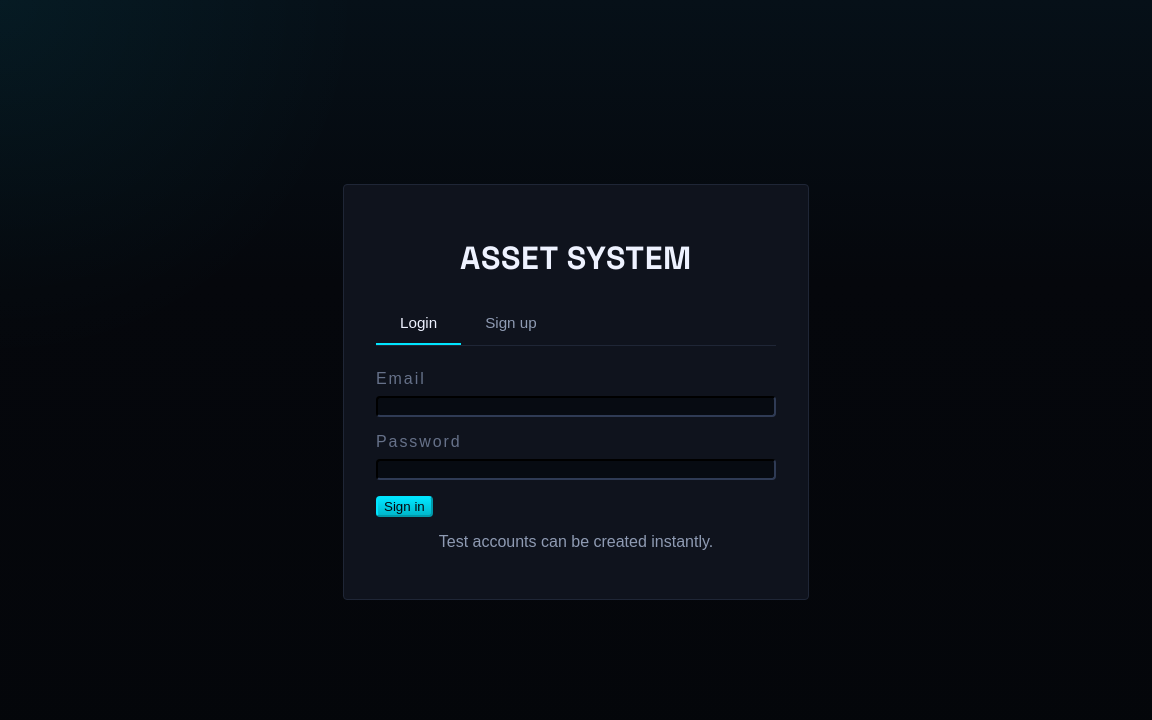
Test: App Integration › logs in and shows dashboard
Expected: the tab "Login" is shown, [376, 302, 461, 345]
Step 1. Type "demo@example.com" into the field labelled "Email" → (576, 407), box [376, 396, 776, 417]
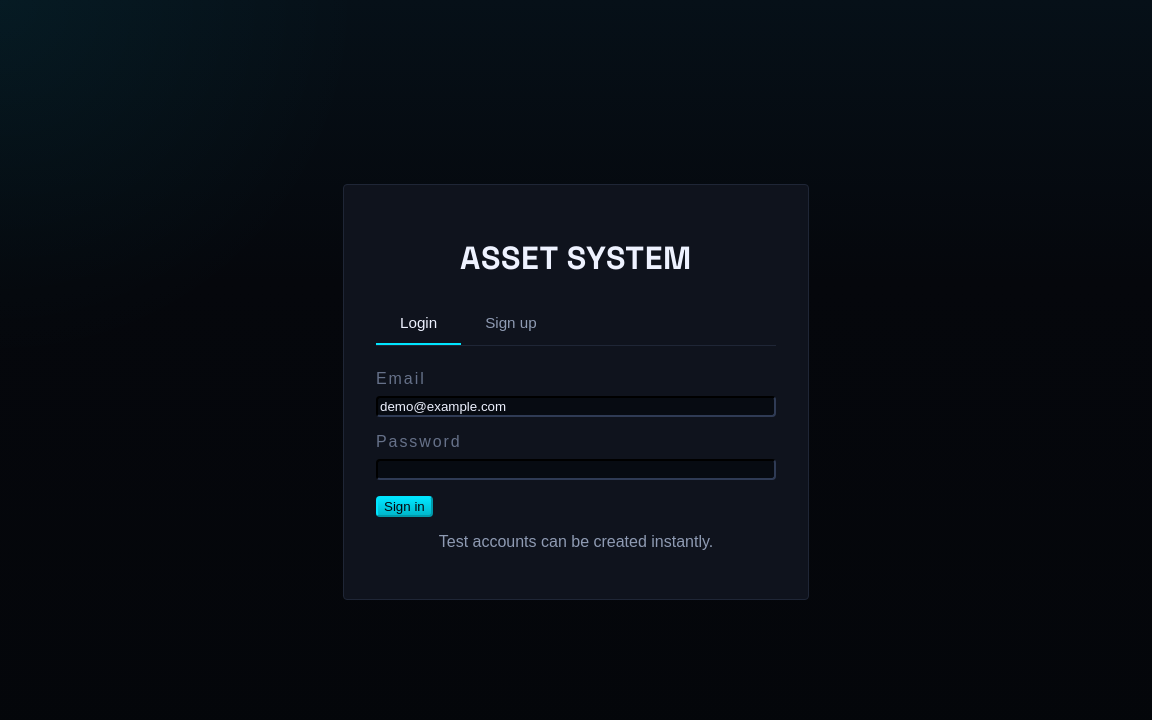
Step 2. Type "demo" into the password field labelled "Password" → (576, 470), box [376, 459, 776, 480]
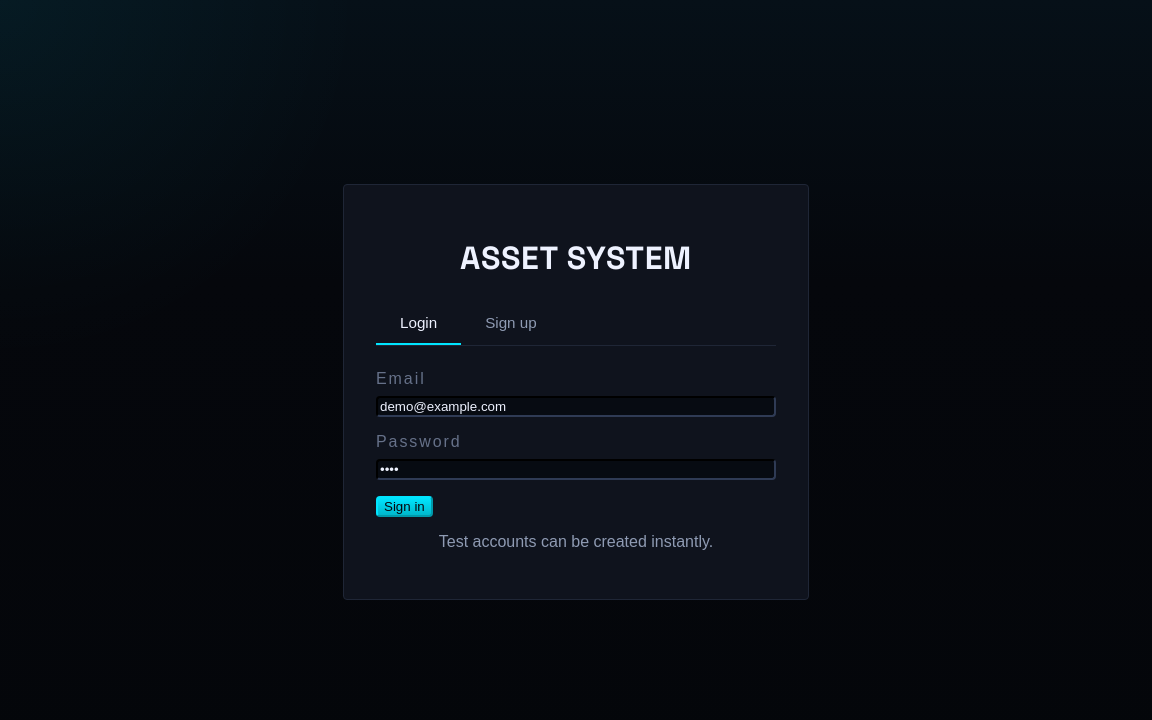
Step 3. Click the button "Sign in" → (404, 507), box [376, 496, 433, 517]
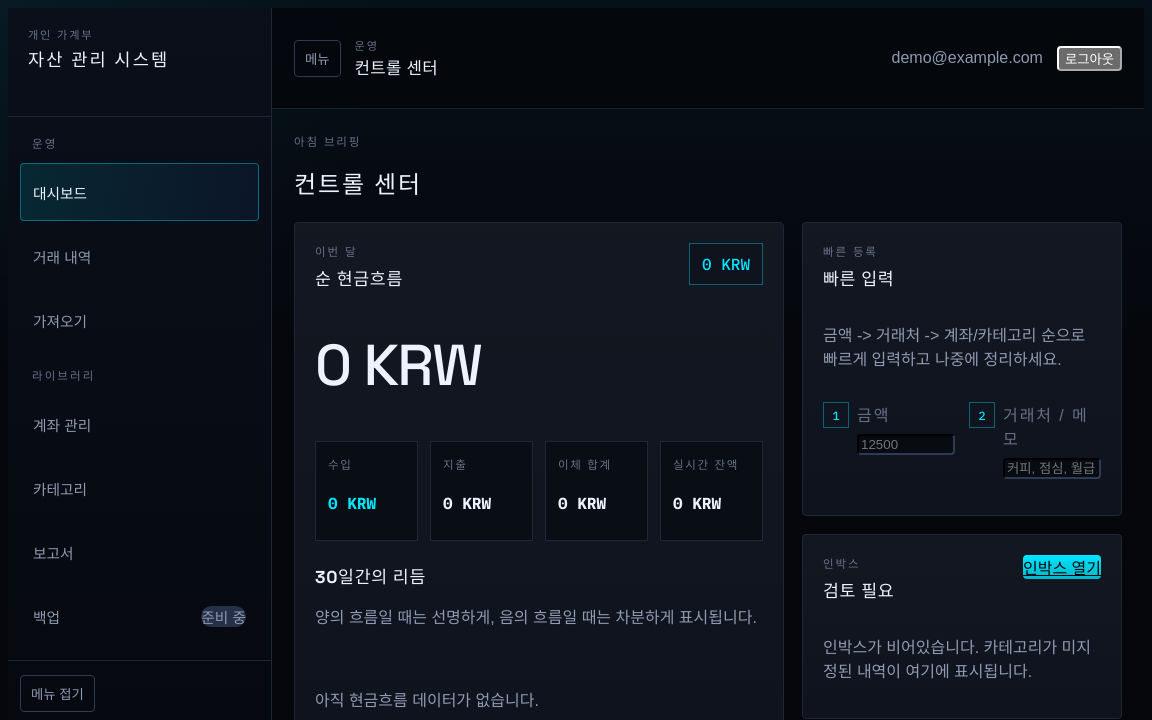
Expected: the heading "컨트롤 센터" is shown, [294, 169, 422, 200]
